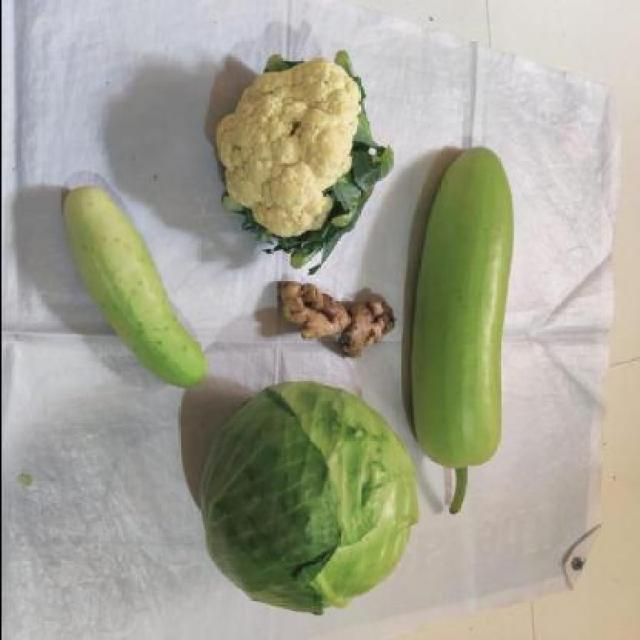Cabbage: (198, 384, 417, 618)
Calabash: (409, 144, 511, 510)
Cauliflower: (217, 55, 394, 268)
Ginger: (274, 277, 397, 363)
cucumber: (63, 189, 200, 389)
